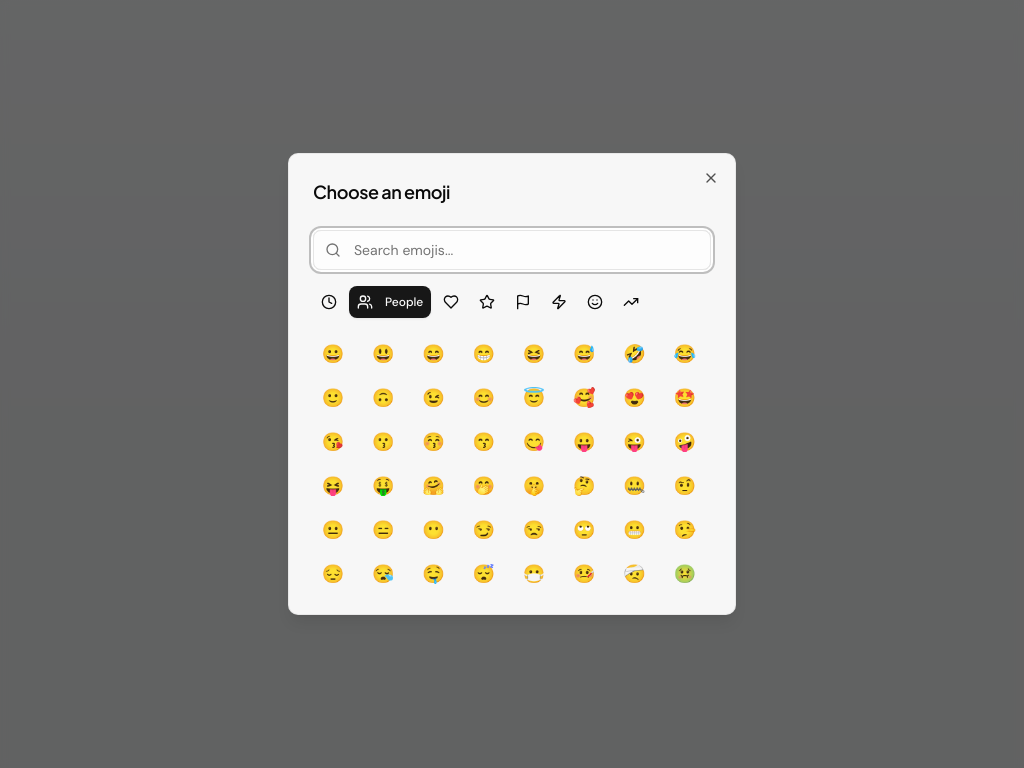
Test: EmojiPicker › switches categories correctly
Click the button titled "Animals": click(451, 302) [435, 286, 467, 318]
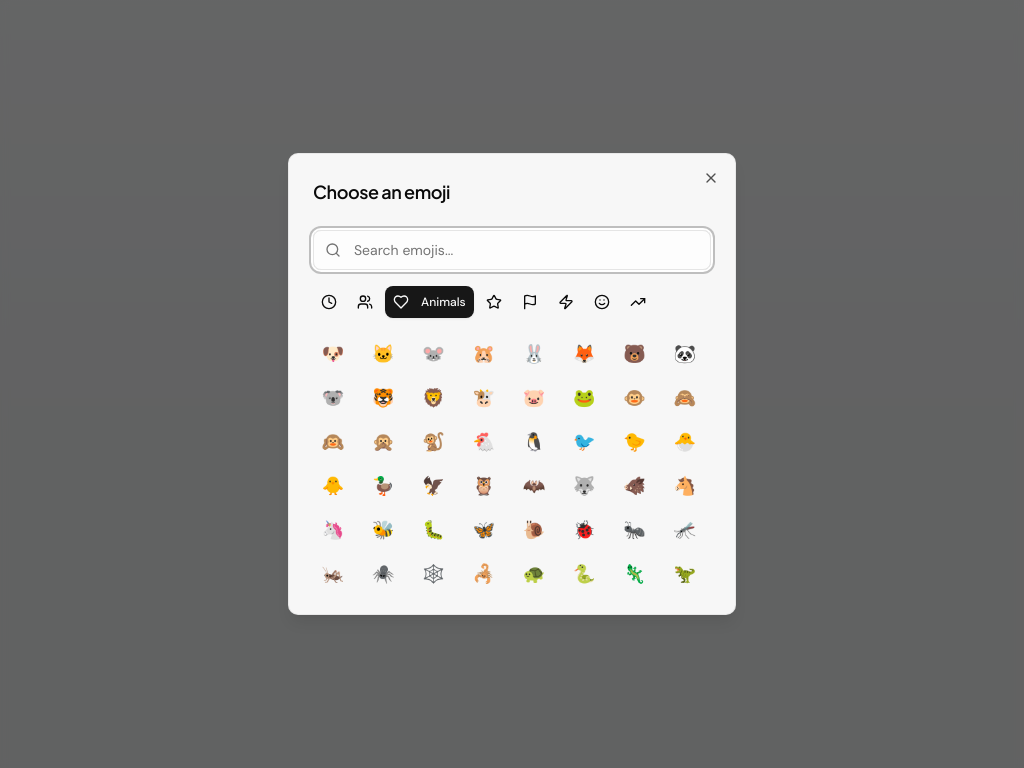
Check: the button titled "🐶" is shown, box [313, 334, 353, 374]
Check: the button titled "🐱" is shown, box [363, 334, 403, 374]
